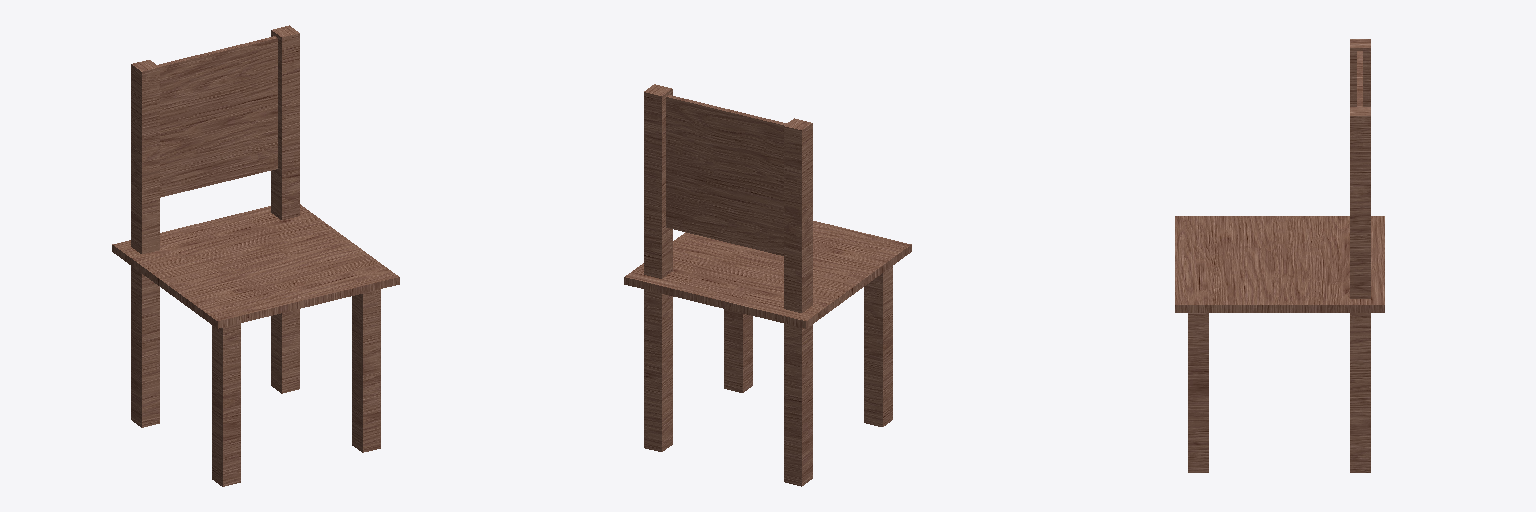
3 views of the same model, side by side, from view 1: azimuth 30°, elevation 25°; view 2: azimuth 150°, elevation 25°; view 3: azimuth 270°, elevation 25° (orthographic).
Bounding box in the file's own units: 0.535 × 1 × 0.535.
1 materials, 1 textured.